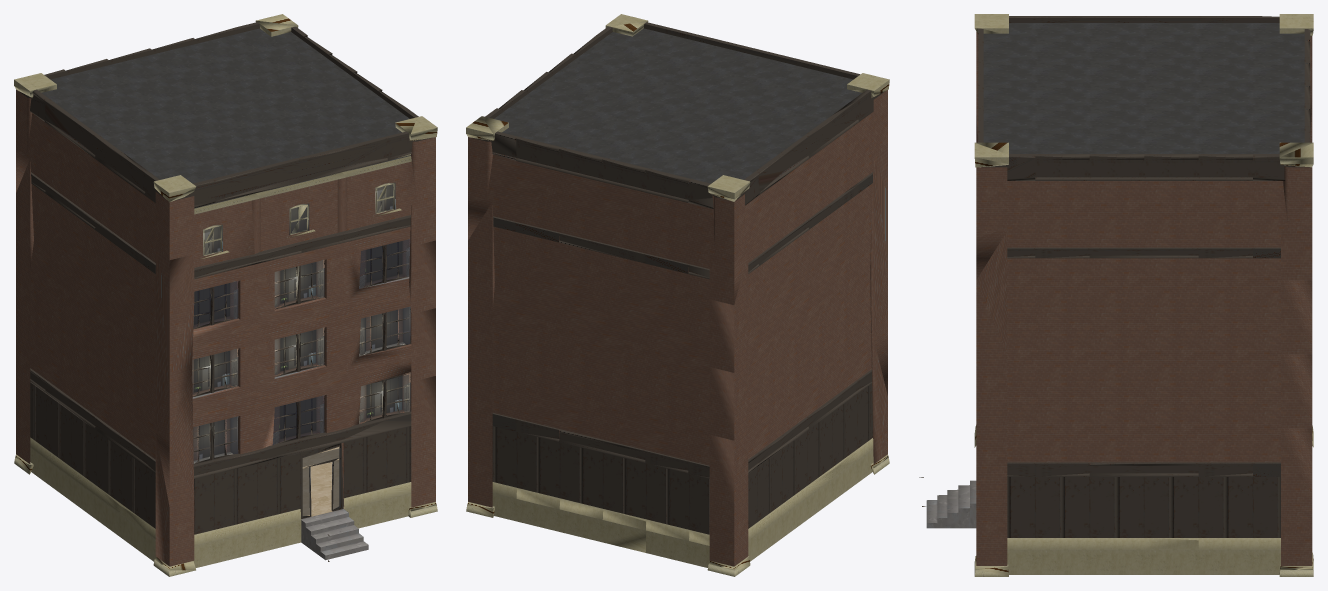
The model's file is la-building-small-lod.glb.
The picture shows the model from 3 angles, left to right: view 1: azimuth 30°, elevation 25°; view 2: azimuth 150°, elevation 25°; view 3: azimuth 270°, elevation 25°; orthographic projection. The views are drawn at different scales.
Visible parts, largest first — view 1: Building_Small_1; view 2: Building_Small_1; view 3: Building_Small_1.
Boxes of the visible parts, bbox=[...] form: Building_Small_1: bbox=[14, 14, 437, 576]; Building_Small_1: bbox=[466, 14, 889, 576]; Building_Small_1: bbox=[919, 14, 1313, 576].
Bounding box in the file's own units: 12.46 × 17.03 × 14.54.
Materials: 10 (9 with a texture image).
